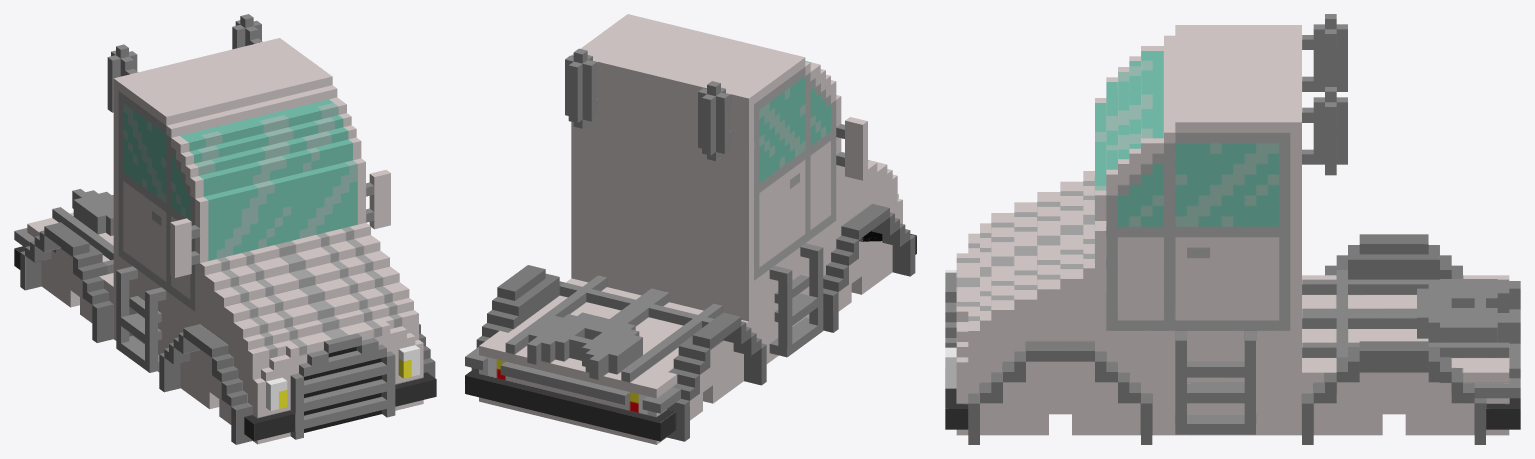
Rendered from Trailer_Var1_1.obj.
The picture shows the model from 3 angles, left to right: view 1: azimuth 30°, elevation 25°; view 2: azimuth 150°, elevation 25°; view 3: azimuth 270°, elevation 25°; orthographic projection. The views are drawn at different scales.
Parts seen in each view (by area): view 1: Trailer_Var1_1_Trailer_Var1_1.001; view 2: Trailer_Var1_1_Trailer_Var1_1.001; view 3: Trailer_Var1_1_Trailer_Var1_1.001.
Part boxes in pixels (box(x1,y1,x2,y2)): Trailer_Var1_1_Trailer_Var1_1.001: box(14, 14, 436, 444); Trailer_Var1_1_Trailer_Var1_1.001: box(465, 14, 916, 444); Trailer_Var1_1_Trailer_Var1_1.001: box(945, 14, 1520, 444).
Bounding box in the file's own units: 2.6 × 3.2 × 5.
